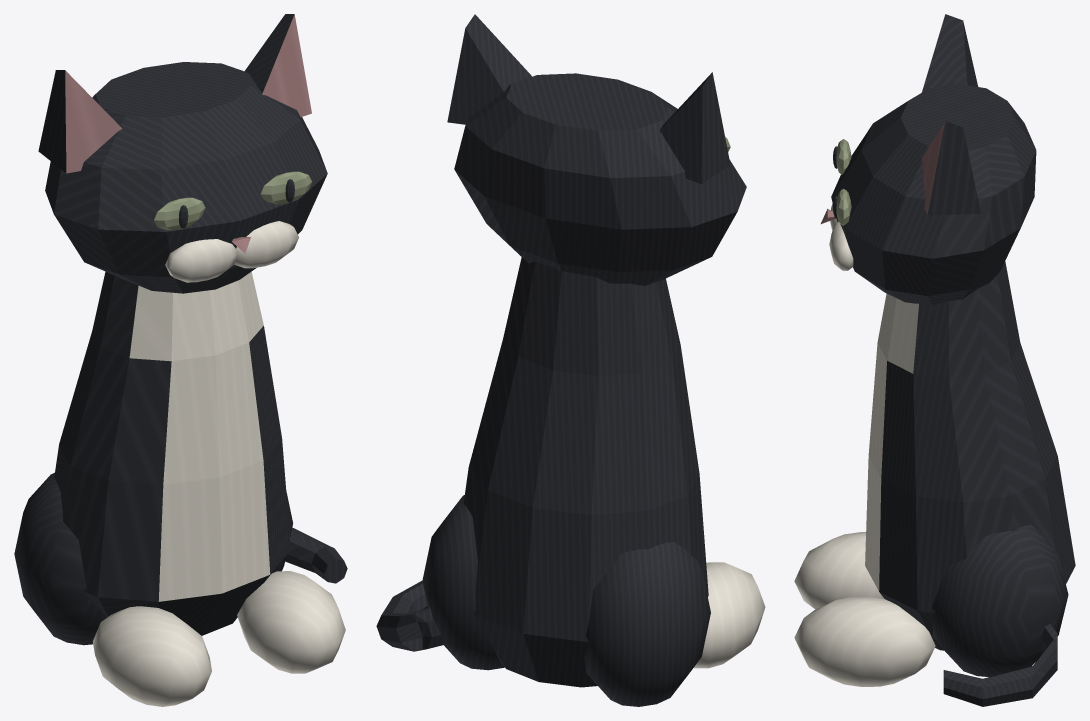
File: cat_plush.glb
3 views of the same model, side by side, from view 1: azimuth 30°, elevation 25°; view 2: azimuth 150°, elevation 25°; view 3: azimuth 270°, elevation 25° (orthographic). The views are drawn at different scales.
Parts seen in each view (by area): view 1: cat_plush; view 2: cat_plush; view 3: cat_plush.
Part boxes in pixels (x1,y1,x2,y2): cat_plush: [14, 14, 347, 706]; cat_plush: [376, 14, 765, 706]; cat_plush: [794, 14, 1075, 706].
Bounding box in the file's own units: 0.1924 × 0.36 × 0.1576.
Materials: 4 (4 with a texture image).
